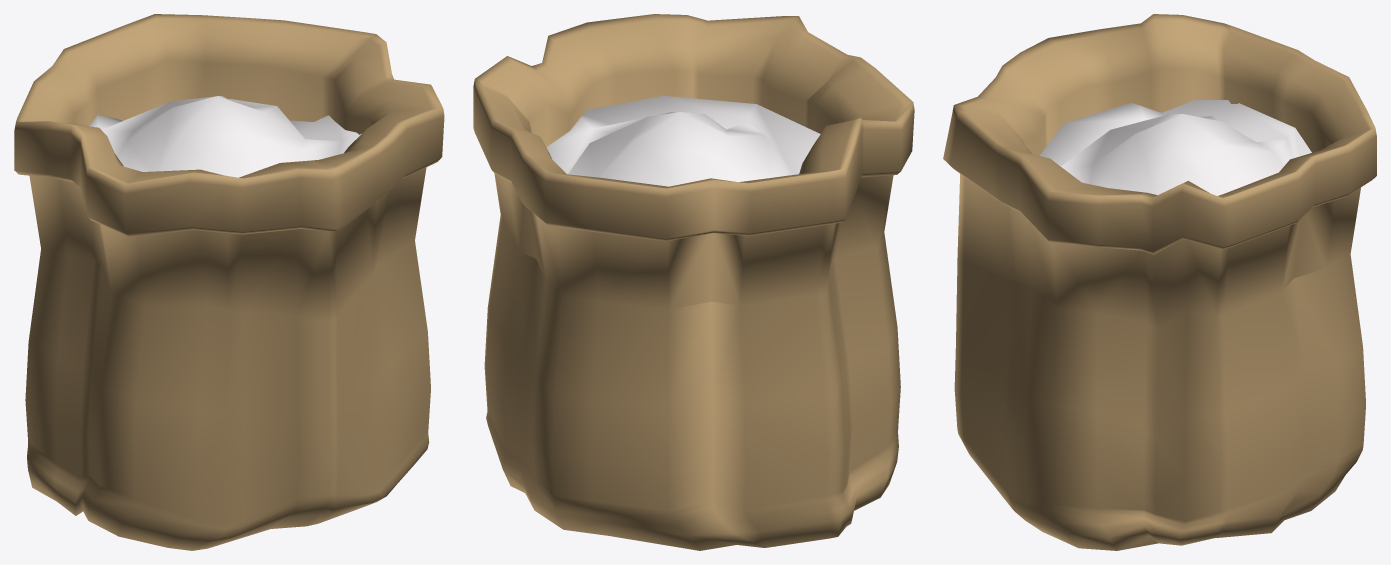
Rendered from Bag of Flour.fbx.
3 views of the same model, side by side, from view 1: azimuth 30°, elevation 25°; view 2: azimuth 150°, elevation 25°; view 3: azimuth 270°, elevation 25° (orthographic). The views are drawn at different scales.
Parts seen in each view (by area): view 1: Cylinder, Sphere; view 2: Cylinder, Sphere; view 3: Cylinder, Sphere.
Boxes of the visible parts, x1,y1,x2,y2 form: Cylinder: (14, 14, 444, 550); Sphere: (89, 95, 361, 177); Cylinder: (473, 14, 914, 550); Sphere: (546, 95, 820, 186); Cylinder: (943, 14, 1376, 550); Sphere: (1039, 100, 1311, 195).
Bounding box in the file's own units: 153 × 162 × 159.
